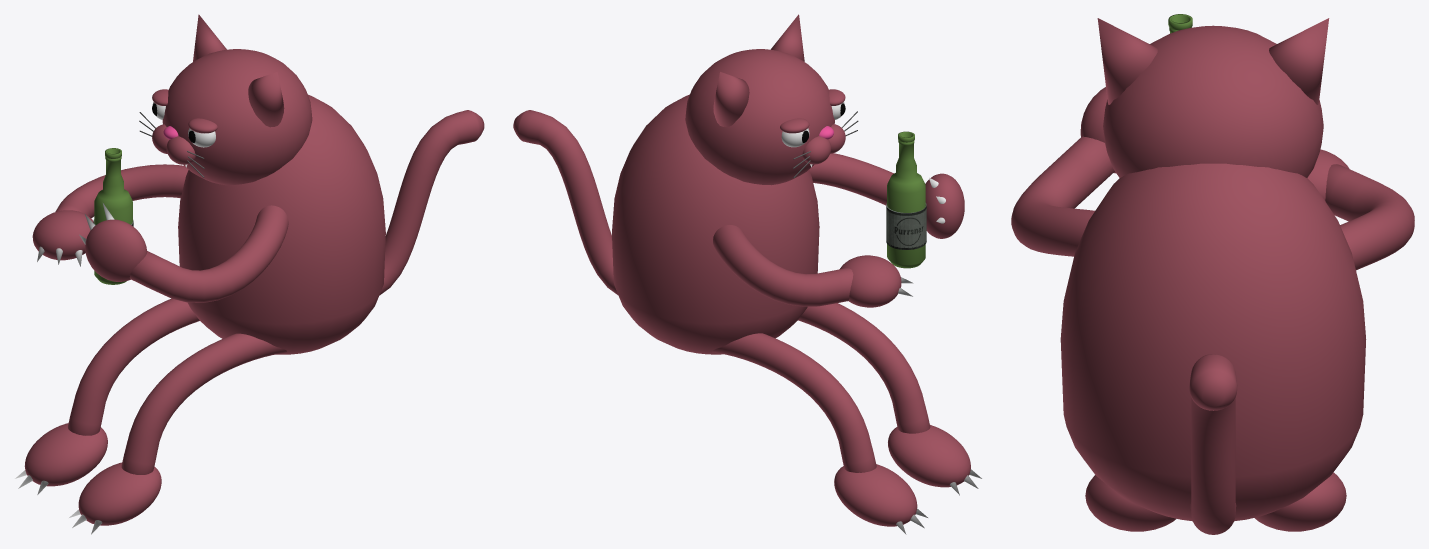
Rendered from BackgroundCat.glb.
The picture shows the model from 3 angles, left to right: view 1: azimuth 30°, elevation 25°; view 2: azimuth 150°, elevation 25°; view 3: azimuth 270°, elevation 25°; orthographic projection. The views are drawn at different scales.
Parts seen in each view (by area): view 1: Sphere, Sphere.001, Cylinder.014, Cylinder.009, Cylinder.010, Cylinder.013, Sphere.010, Sphere.011, Cylinder.015, Sphere.013, Sphere.012, Cylinder.099 (+3 smaller); view 2: Sphere, Sphere.001, Cylinder.013, Cylinder.010, Cylinder.014, Cylinder.015, Sphere.011, Sphere.010, Cylinder.099, Cylinder.009, Sphere.012, Sphere.013 (+4 smaller); view 3: Sphere, Sphere.001, Cylinder.010, Cylinder.009, Cylinder.015, Cone, Cone.001, Sphere.010, Sphere.011, Sphere.013, Sphere.012.
Boxes of the visible parts, x1,y1,x2,y2 form: Sphere: (178, 94, 385, 354); Sphere.001: (162, 49, 312, 185); Cylinder.014: (121, 333, 287, 474); Cylinder.009: (129, 205, 288, 302); Cylinder.010: (379, 110, 484, 295); Cylinder.013: (68, 298, 199, 435); Sphere.010: (24, 423, 107, 486); Sphere.011: (78, 462, 161, 525); Cylinder.015: (55, 164, 188, 218); Sphere.013: (85, 219, 146, 281); Sphere.012: (32, 210, 93, 260); Cylinder.099: (94, 148, 132, 284); Sphere: (612, 94, 819, 354); Sphere.001: (685, 49, 834, 185); Cylinder.013: (712, 333, 876, 472); Cylinder.010: (513, 110, 617, 294); Cylinder.014: (798, 303, 930, 433); Cylinder.015: (713, 225, 853, 306); Sphere.011: (888, 425, 970, 487); Sphere.010: (834, 464, 917, 526); Cylinder.099: (887, 131, 925, 268); Cylinder.009: (809, 153, 893, 205); Sphere.012: (840, 255, 901, 307); Sphere.013: (925, 173, 964, 238); Sphere: (1060, 163, 1366, 521); Sphere.001: (1103, 25, 1323, 177); Cylinder.010: (1189, 354, 1237, 534); Cylinder.009: (1011, 136, 1114, 256); Cylinder.015: (1325, 164, 1414, 270); Cone: (1269, 18, 1329, 104); Cone.001: (1097, 18, 1157, 104); Sphere.010: (1254, 472, 1346, 531); Sphere.011: (1085, 475, 1176, 531); Sphere.013: (1080, 87, 1115, 173); Sphere.012: (1307, 149, 1349, 201).
Size of the model in its own units: 1.54 by 1.43 by 0.8443.
Materials: 6 (1 with a texture image).
